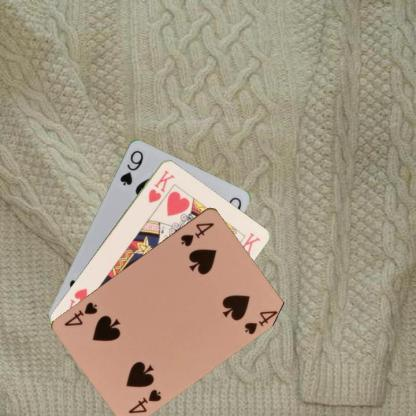4s: (125, 386, 163, 415), (178, 219, 215, 248)
9s: (117, 147, 144, 187)
Kh: (146, 167, 176, 204)
